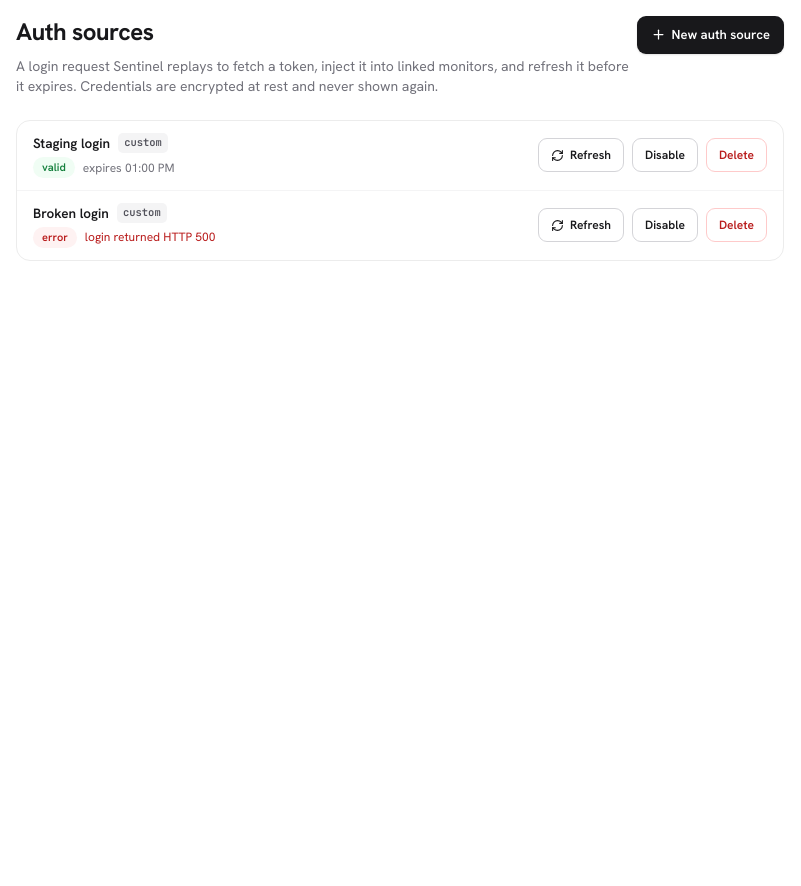
auth sources › manually refreshes a source's token
The image size is (801, 886).
Click the button "Refresh" in the row of "Staging login" at (581, 156), box [538, 138, 624, 172]
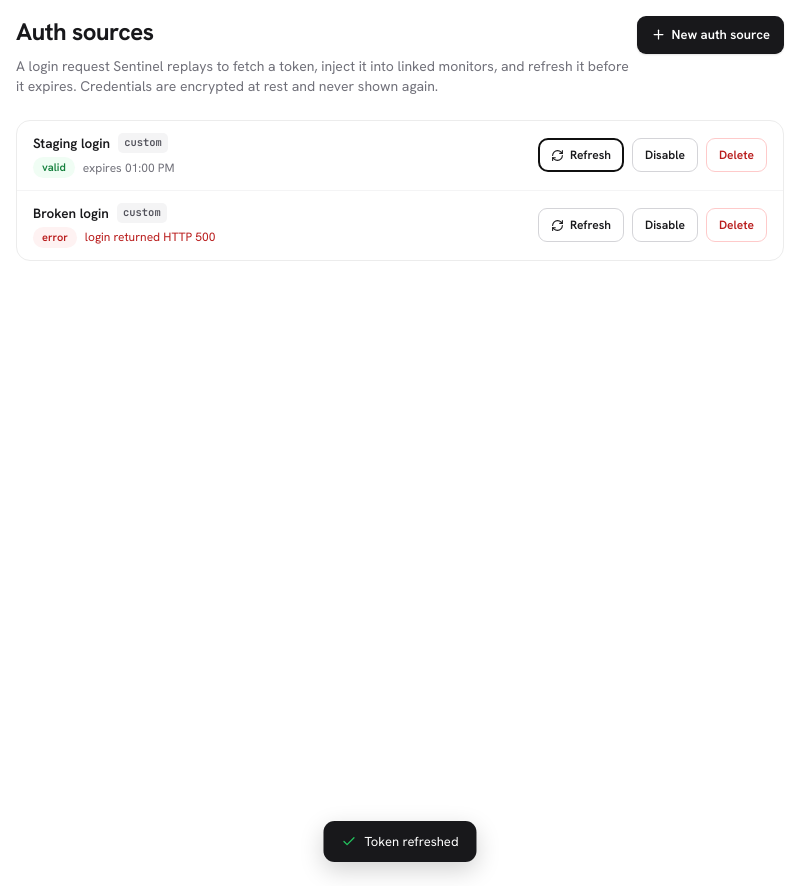
Expected: the text "Token refreshed" is shown, [324, 820, 476, 862]
